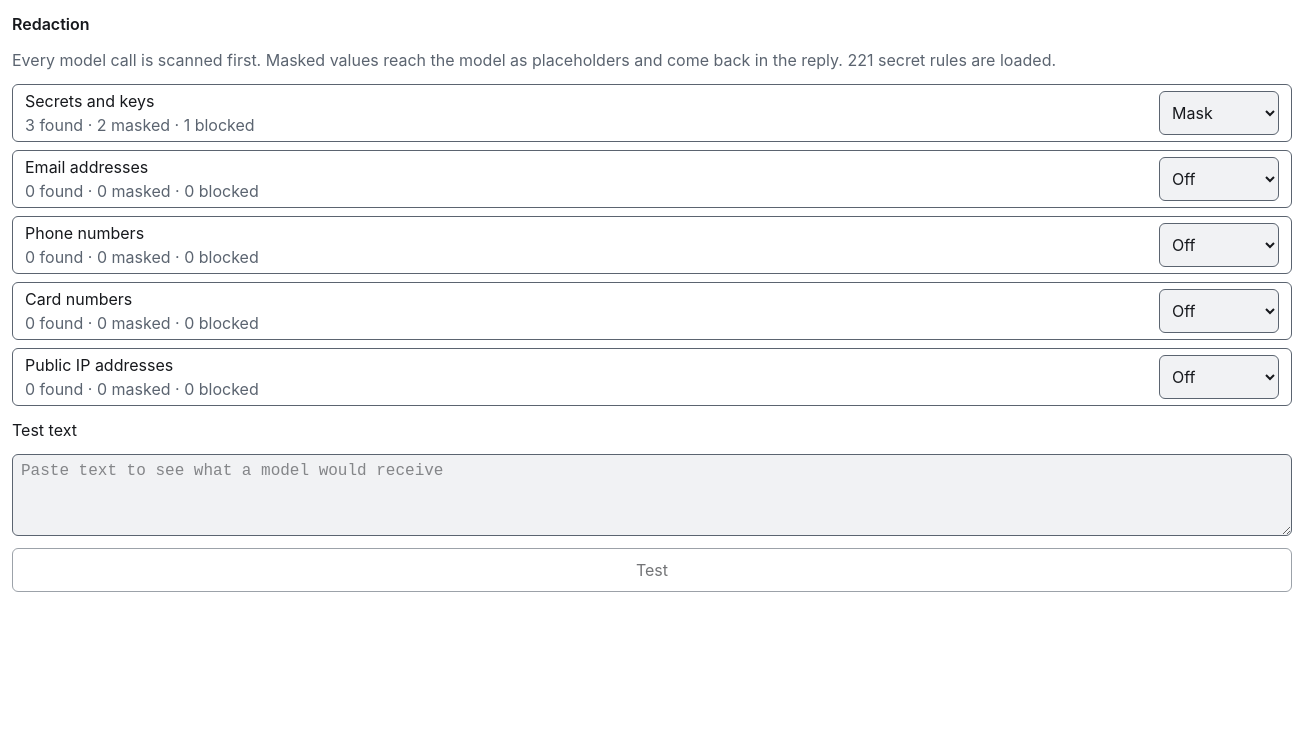
Scenario: Redaction › runs the test box and shows the masked text
Expected: the button "Test" is disabled, x1=12 y1=548 x2=1292 y2=592
Type "key something" into the text box labelled "Test text" at (652, 495), box x1=12 y1=454 x2=1292 y2=536
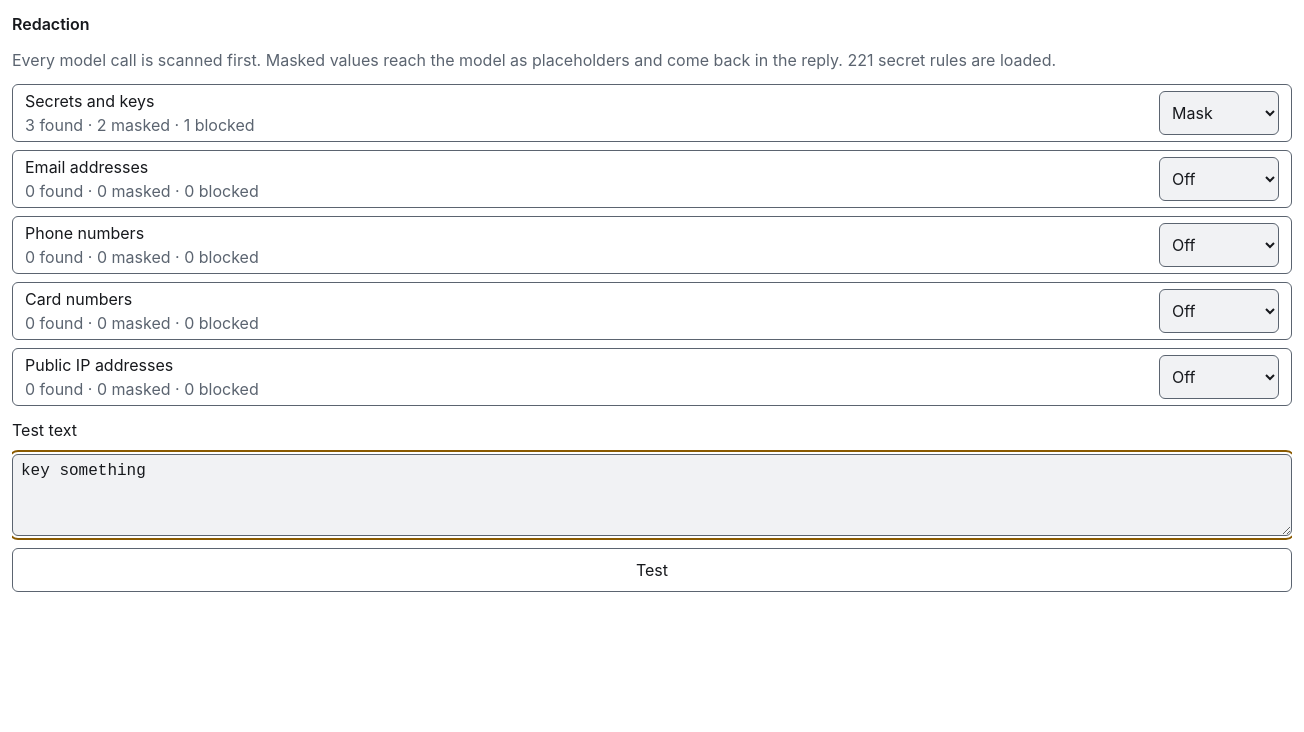
Click the button "Test" at (652, 570), box x1=12 y1=548 x2=1292 y2=592
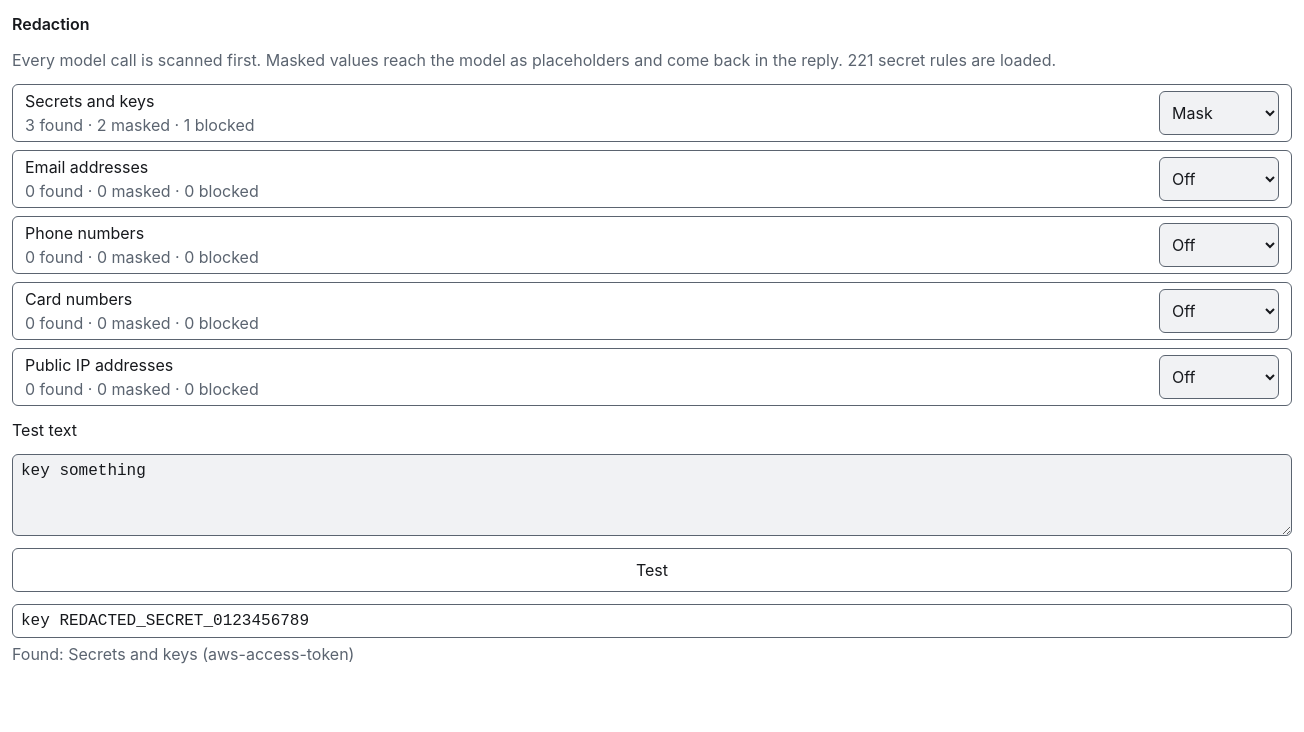
Result: the text "key REDACTED_SECRET_0123456789" is shown at x1=12 y1=604 x2=1292 y2=638
Result: the text "Found: Secrets and keys (aws-access-token)" is shown at x1=12 y1=644 x2=354 y2=664
